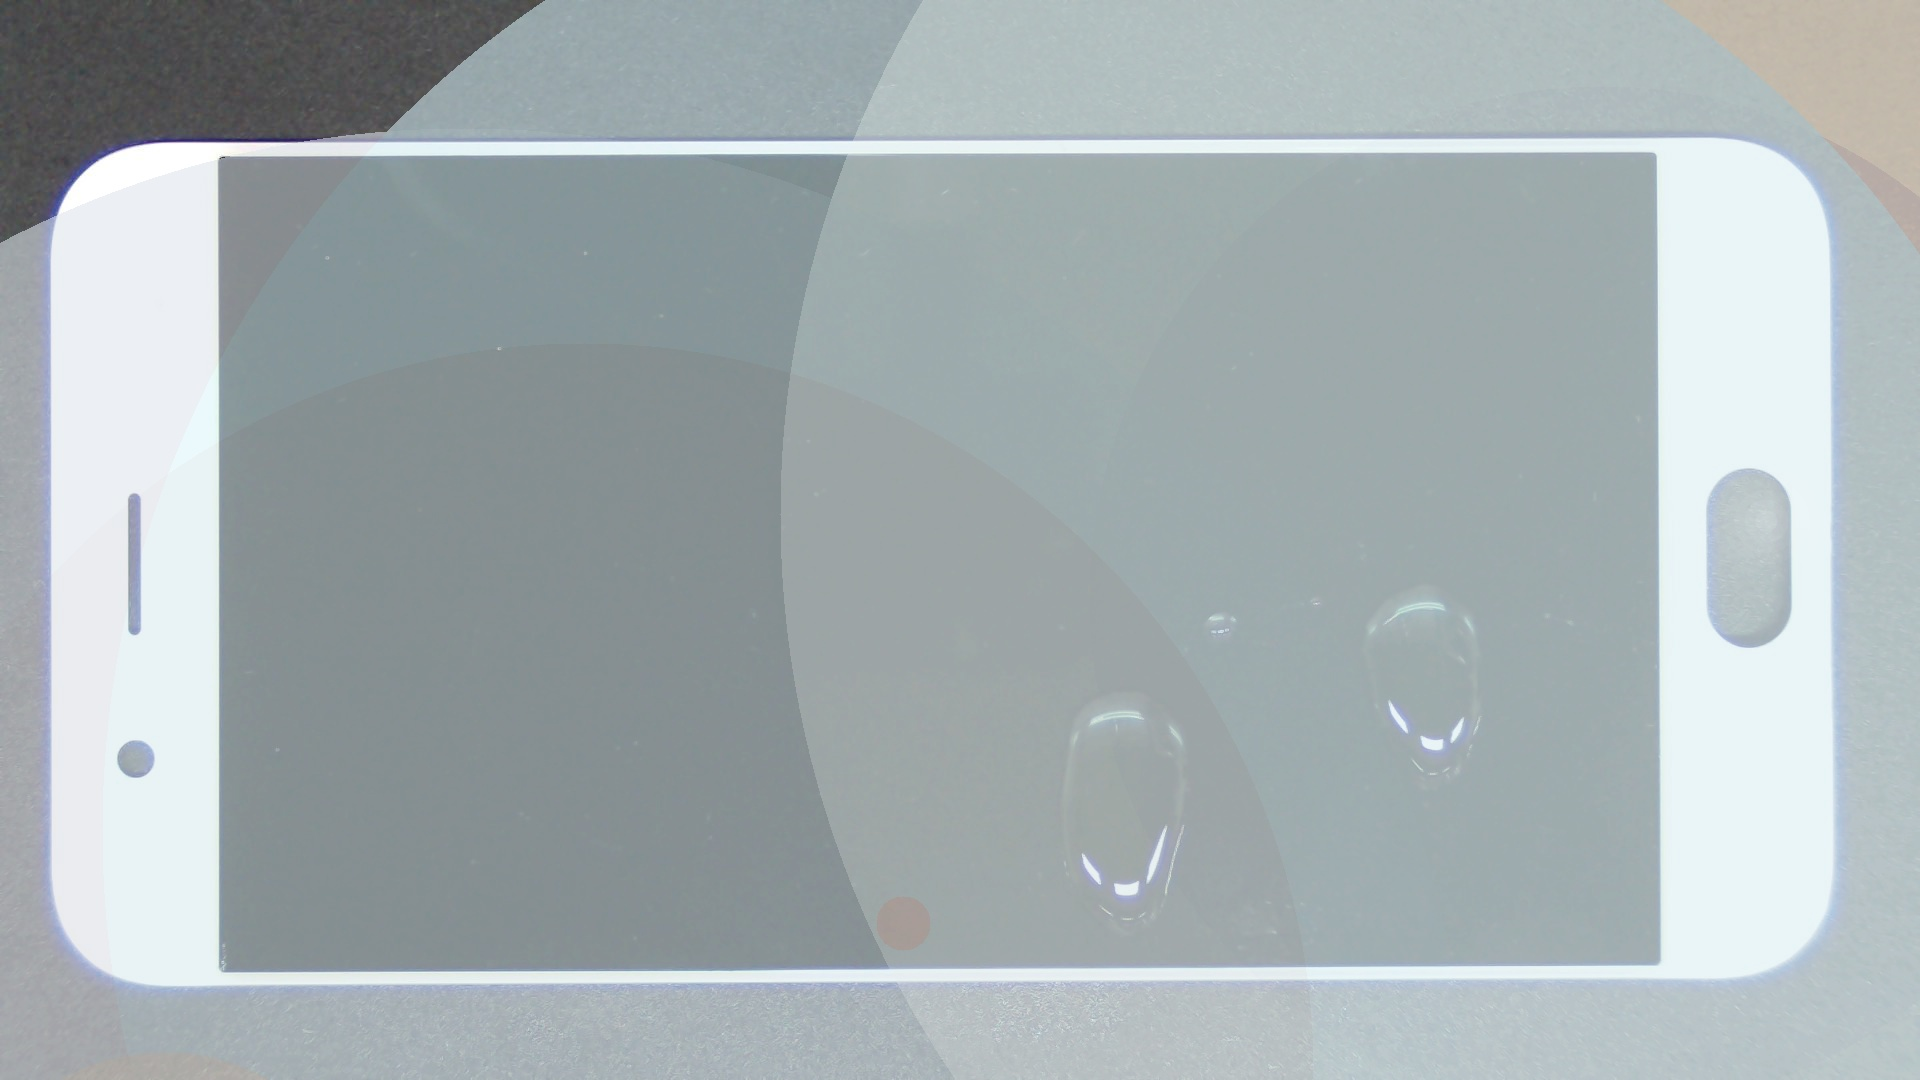oil: (558, 345, 1671, 1039), (658, 298, 1920, 897), (612, 306, 1833, 919), (711, 293, 1920, 880)
